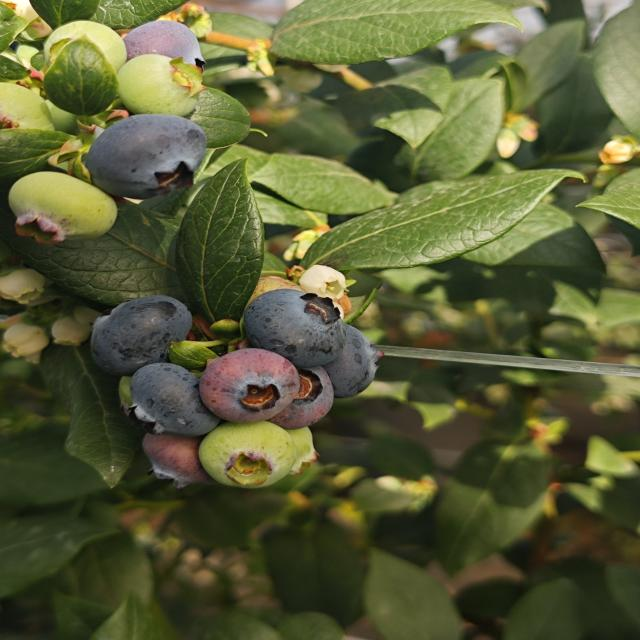ripe: (82, 110, 222, 203), (82, 294, 197, 374), (240, 275, 345, 361), (122, 363, 222, 442), (124, 18, 205, 76), (322, 329, 380, 392)
